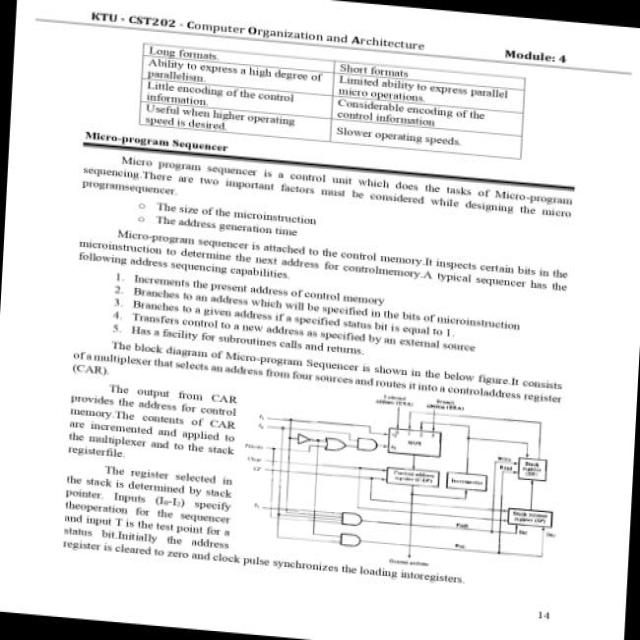Figure Detection - v3 Dataset Version2: (236, 378, 577, 584)
